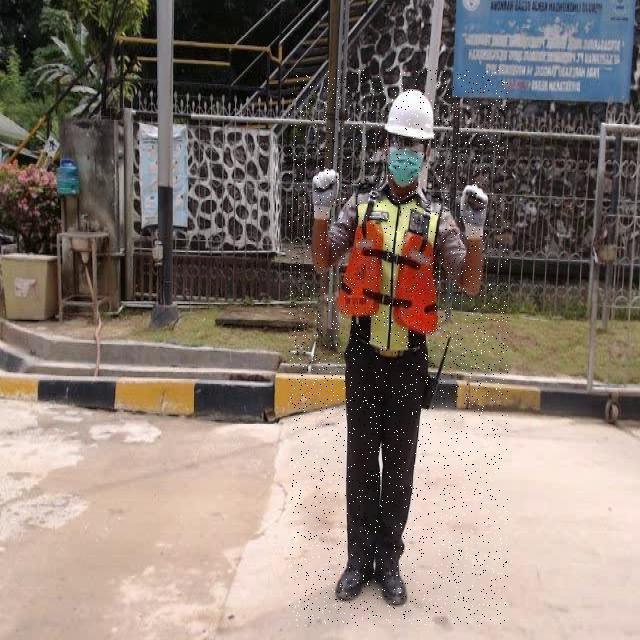gloves: (458, 184, 488, 240), (310, 167, 339, 222)
goggles: (388, 134, 428, 152)
helmet: (380, 86, 438, 147)
safety_vest: (334, 186, 447, 357)
